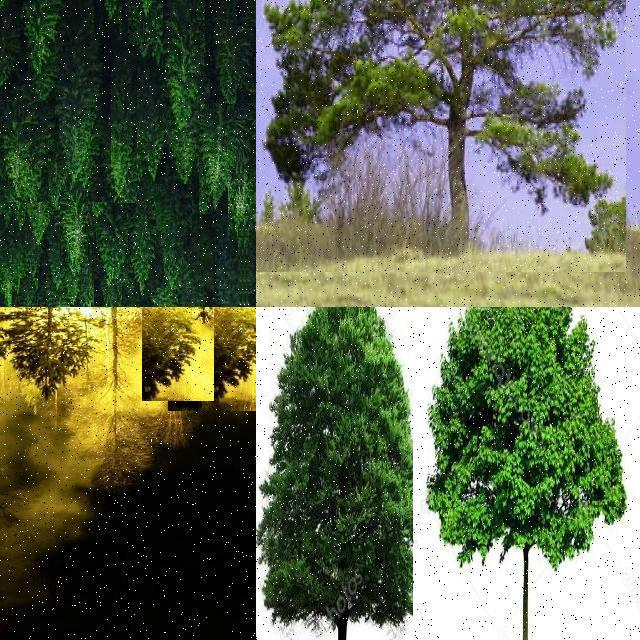tree: (256, 0, 626, 272), (427, 307, 626, 640), (256, 307, 413, 640), (542, 307, 640, 640), (168, 307, 256, 411), (0, 307, 88, 408), (78, 401, 158, 491), (142, 307, 214, 401), (56, 48, 96, 192), (163, 0, 205, 132), (210, 0, 254, 110), (4, 100, 48, 202), (199, 104, 237, 214), (154, 184, 192, 288), (222, 0, 256, 112), (134, 61, 164, 182), (111, 69, 137, 203), (166, 99, 200, 189), (23, 0, 63, 76), (92, 202, 128, 286), (128, 201, 156, 295), (60, 190, 88, 274), (214, 234, 246, 306), (236, 120, 256, 220), (236, 89, 256, 185), (128, 0, 170, 44), (240, 110, 256, 222), (228, 168, 252, 240), (242, 92, 256, 212), (0, 6, 21, 85), (26, 188, 54, 246), (238, 221, 256, 307), (240, 0, 256, 88), (130, 1, 154, 59), (178, 258, 206, 306), (240, 139, 256, 221), (46, 232, 66, 292), (240, 235, 256, 307), (8, 232, 26, 296), (94, 0, 122, 40), (0, 0, 20, 46), (64, 0, 92, 32), (152, 272, 176, 308), (24, 233, 42, 281), (0, 240, 12, 308), (242, 249, 256, 307), (94, 279, 122, 307), (236, 0, 256, 36), (221, 0, 241, 32), (246, 248, 256, 306), (244, 216, 256, 260), (236, 0, 256, 26), (20, 278, 38, 306), (50, 289, 70, 307), (248, 213, 256, 250)
